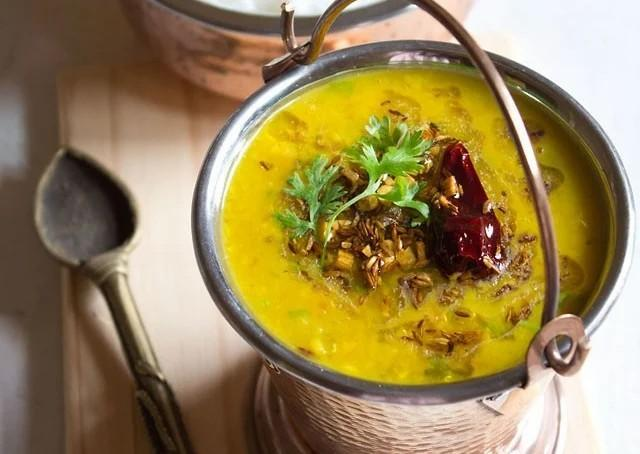Dal: (222, 63, 611, 382)
